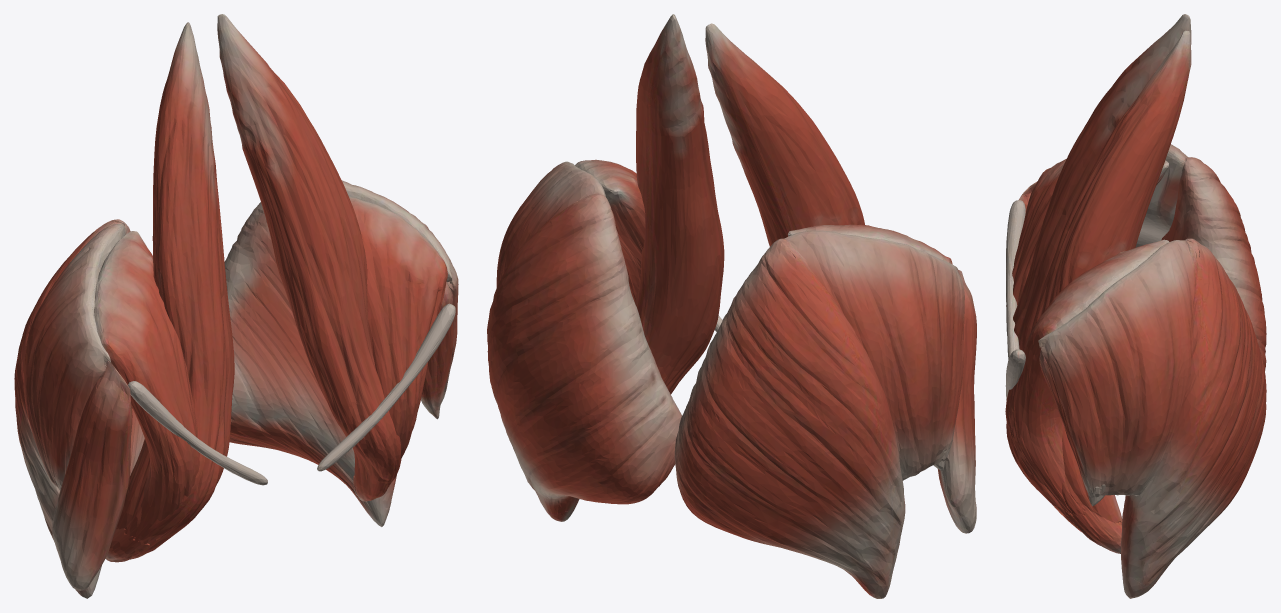
File: SubTool-3-11410130.OBJ
The picture shows the model from 3 angles, left to right: view 1: azimuth 30°, elevation 25°; view 2: azimuth 150°, elevation 25°; view 3: azimuth 270°, elevation 25°; orthographic projection. The views are drawn at different scales.
Parts seen in each view (by area): view 1: Group13817; view 2: Group13817; view 3: Group13817.
Boxes of the visible parts, x1,y1,x2,y2 form: Group13817: (14,14,458,598); Group13817: (487,14,976,598); Group13817: (1005,14,1266,598).
Size of the model in its own units: 12.77 by 15.8 by 7.38.
Materials: 1 (1 with a texture image).
